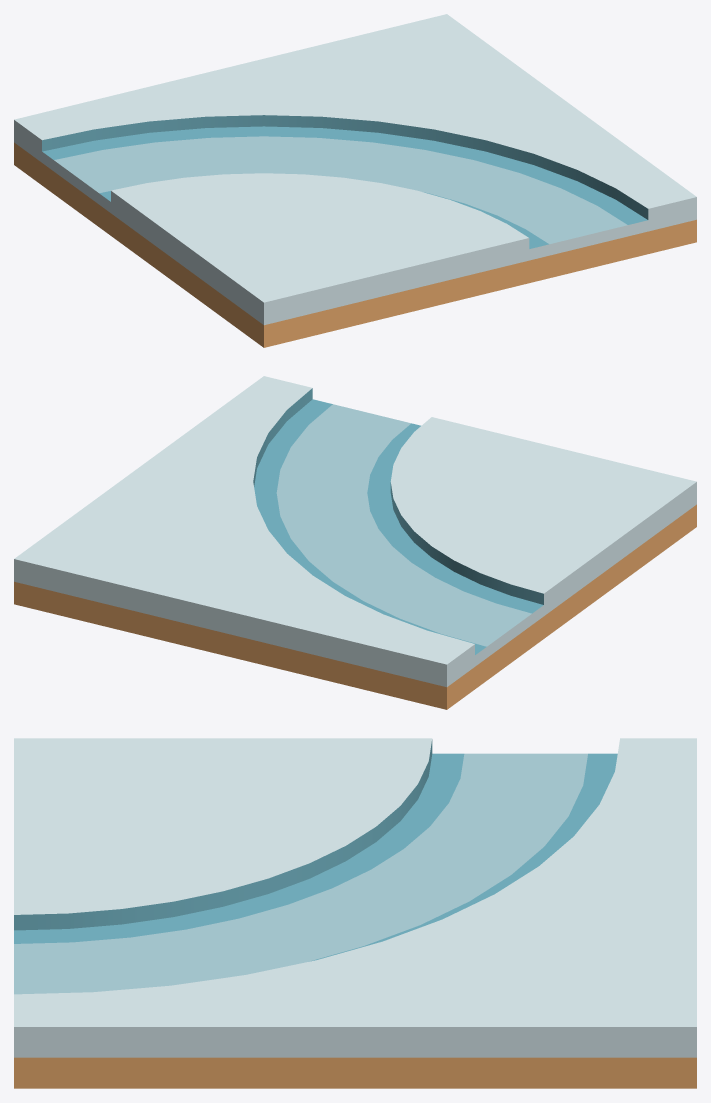
The model's file is snow_tile_cornerLarge.dae.
3 views of the same model, one above another, from view 1: azimuth 30°, elevation 25°; view 2: azimuth 150°, elevation 25°; view 3: azimuth 270°, elevation 25° (orthographic). The views are drawn at different scales.
Parts seen in each view (by area): view 1: snow_tile_cornerLarge; view 2: snow_tile_cornerLarge; view 3: snow_tile_cornerLarge.
Part boxes in pixels (box(x1,y1,x2,y2)): snow_tile_cornerLarge: box(14, 14, 696, 347); snow_tile_cornerLarge: box(14, 376, 696, 709); snow_tile_cornerLarge: box(14, 738, 696, 1088).
Size of the model in its own units: 2 by 0.2 by 2.
